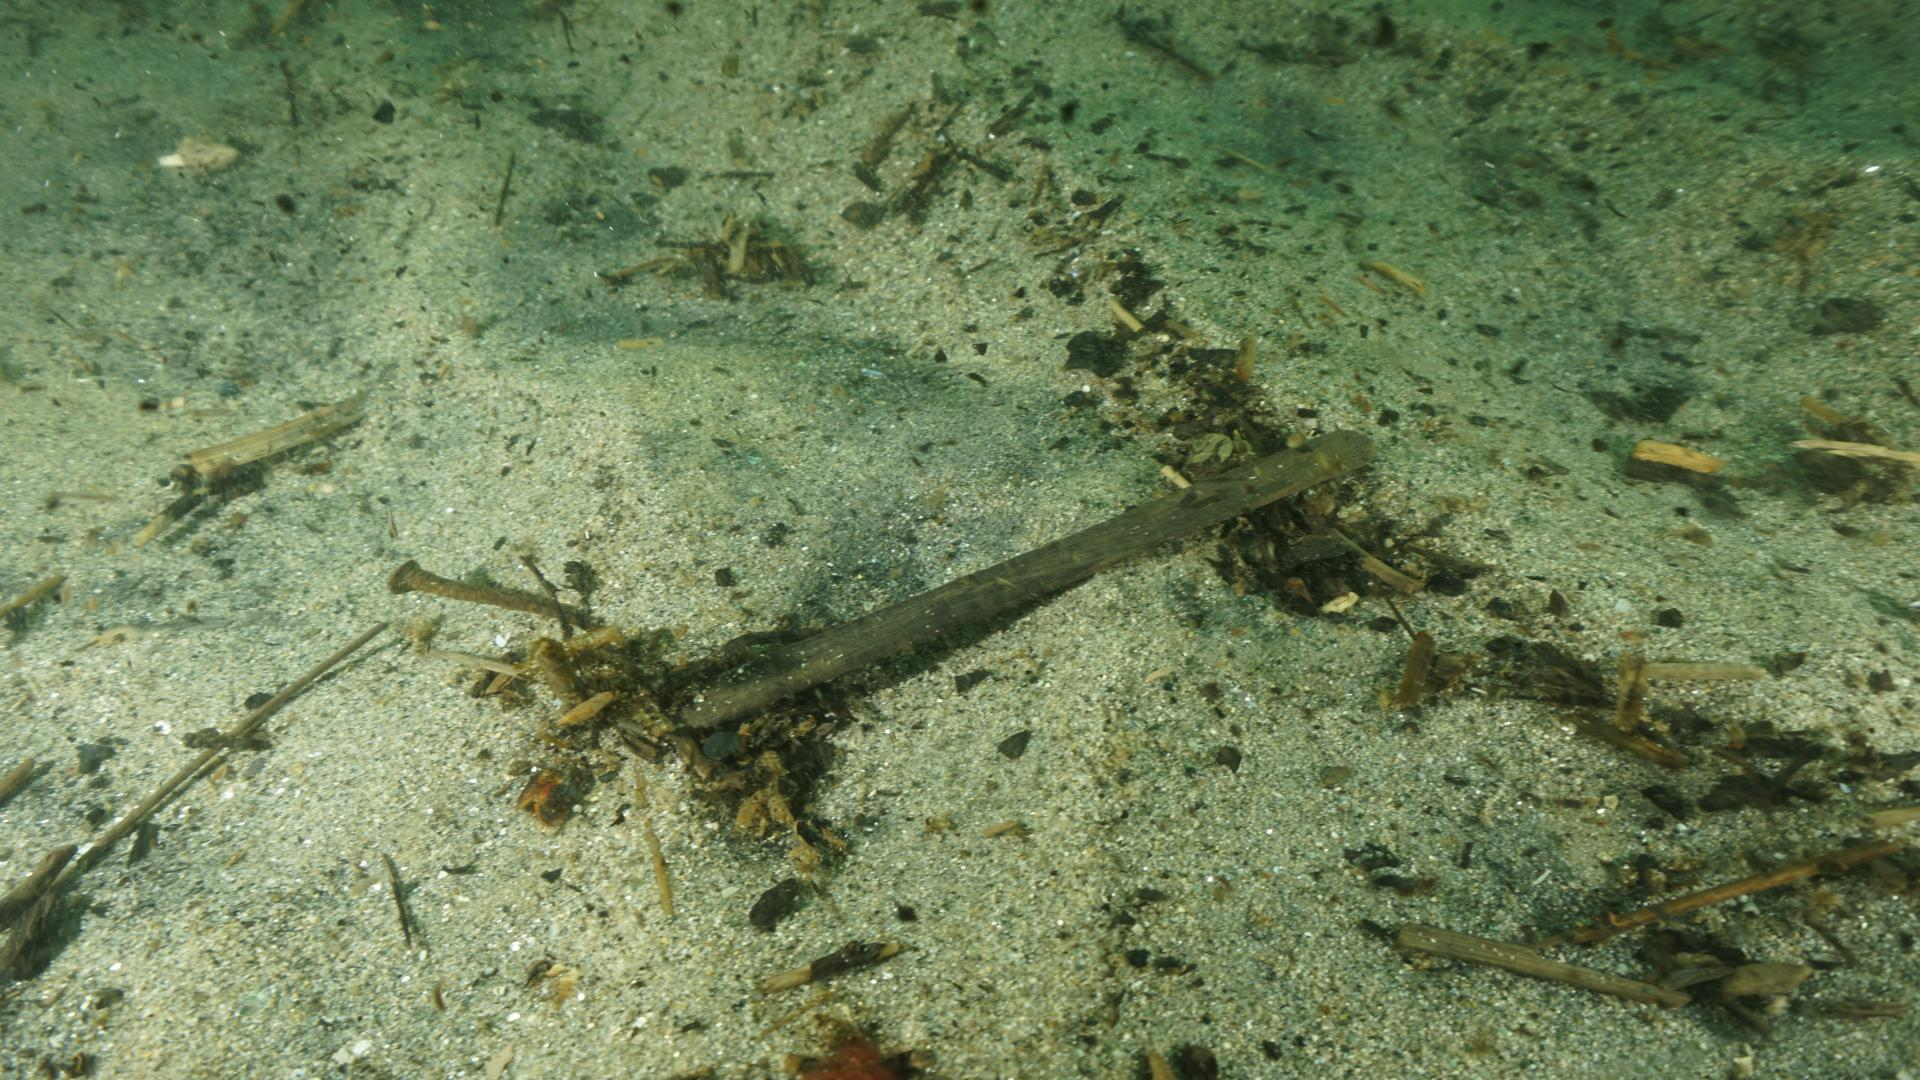wood: (659, 425, 1382, 725)
